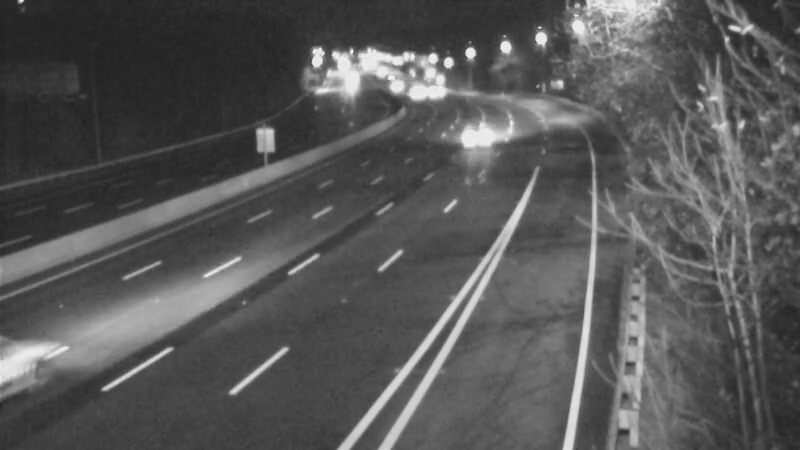vehicle: (411, 68, 461, 118), (371, 60, 421, 110), (392, 67, 442, 117), (448, 114, 498, 164), (327, 62, 377, 112)
